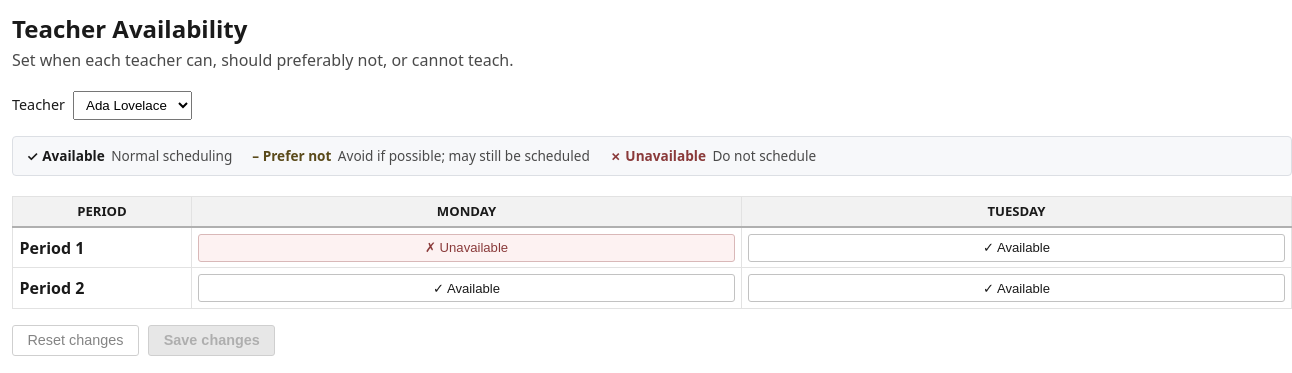
Test: TeacherAvailabilityPage › switching Teacher while clean causes no additional GET
Select "Alan Turing" in the dropdown labelled "Teacher" at (132, 105), box x1=73 y1=91 x2=192 y2=120
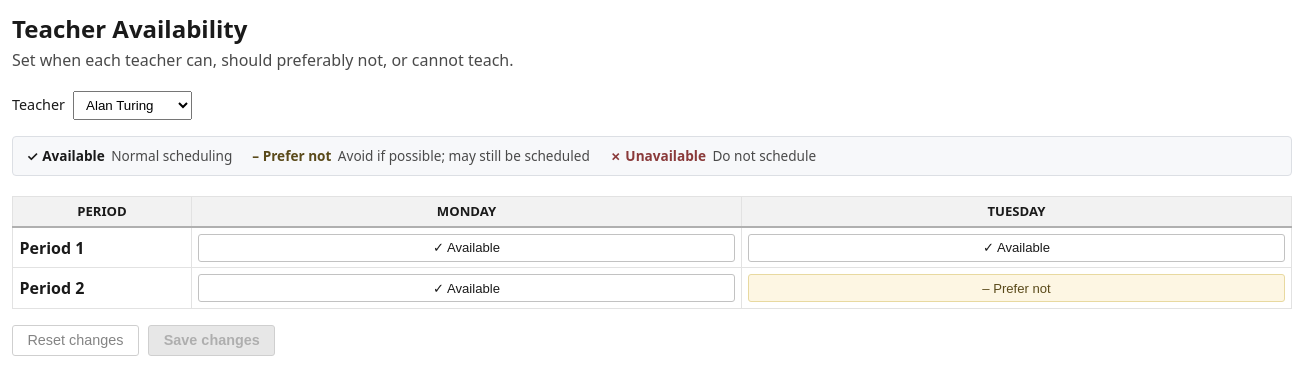
Expected: the button with aria-label "Tuesday, Period 2." shows "Prefer not", x1=748 y1=274 x2=1285 y2=302
